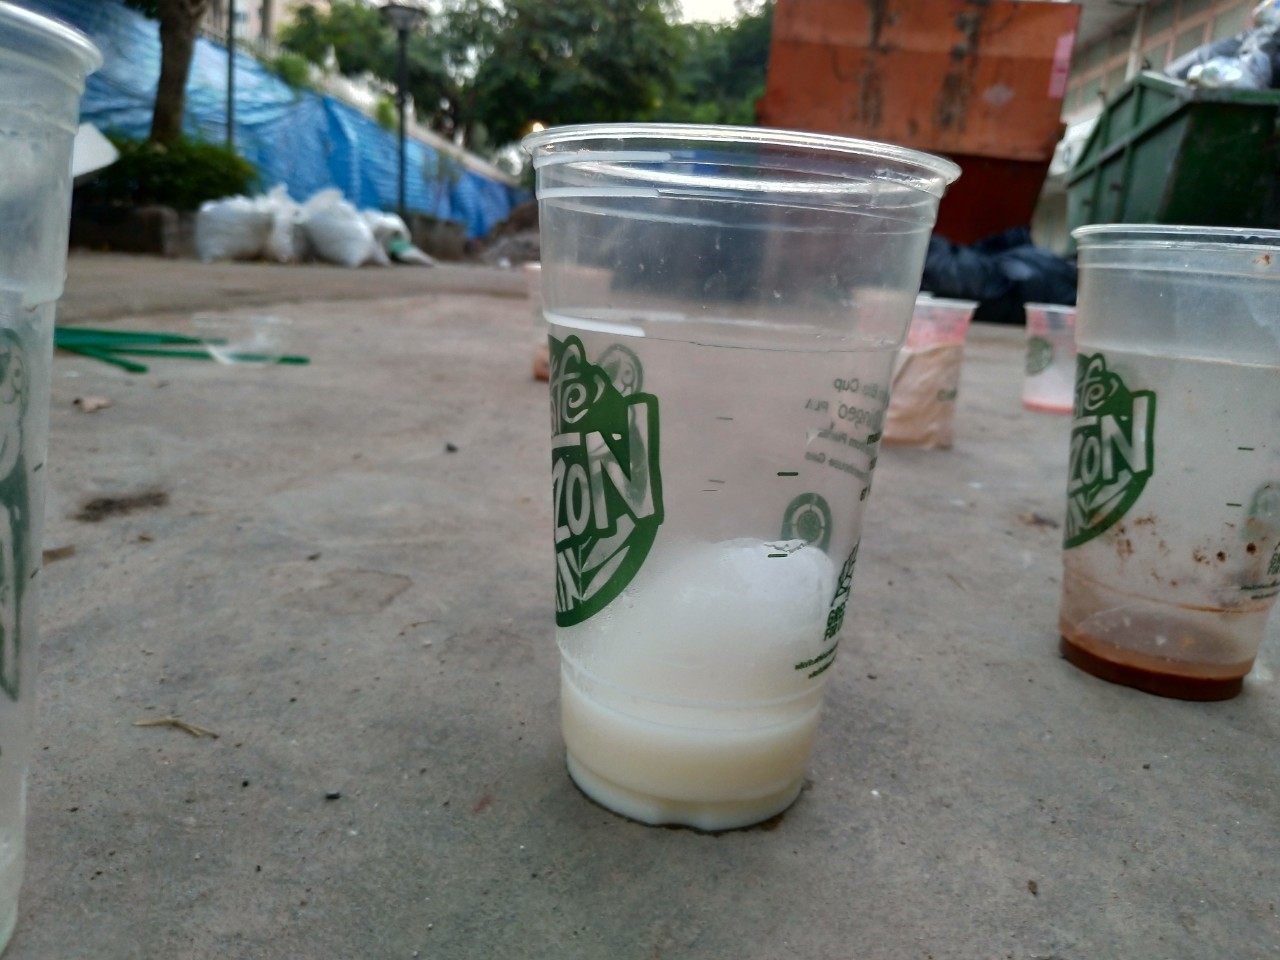PlasticCup: (518, 109, 959, 831), (1064, 217, 1271, 703)
